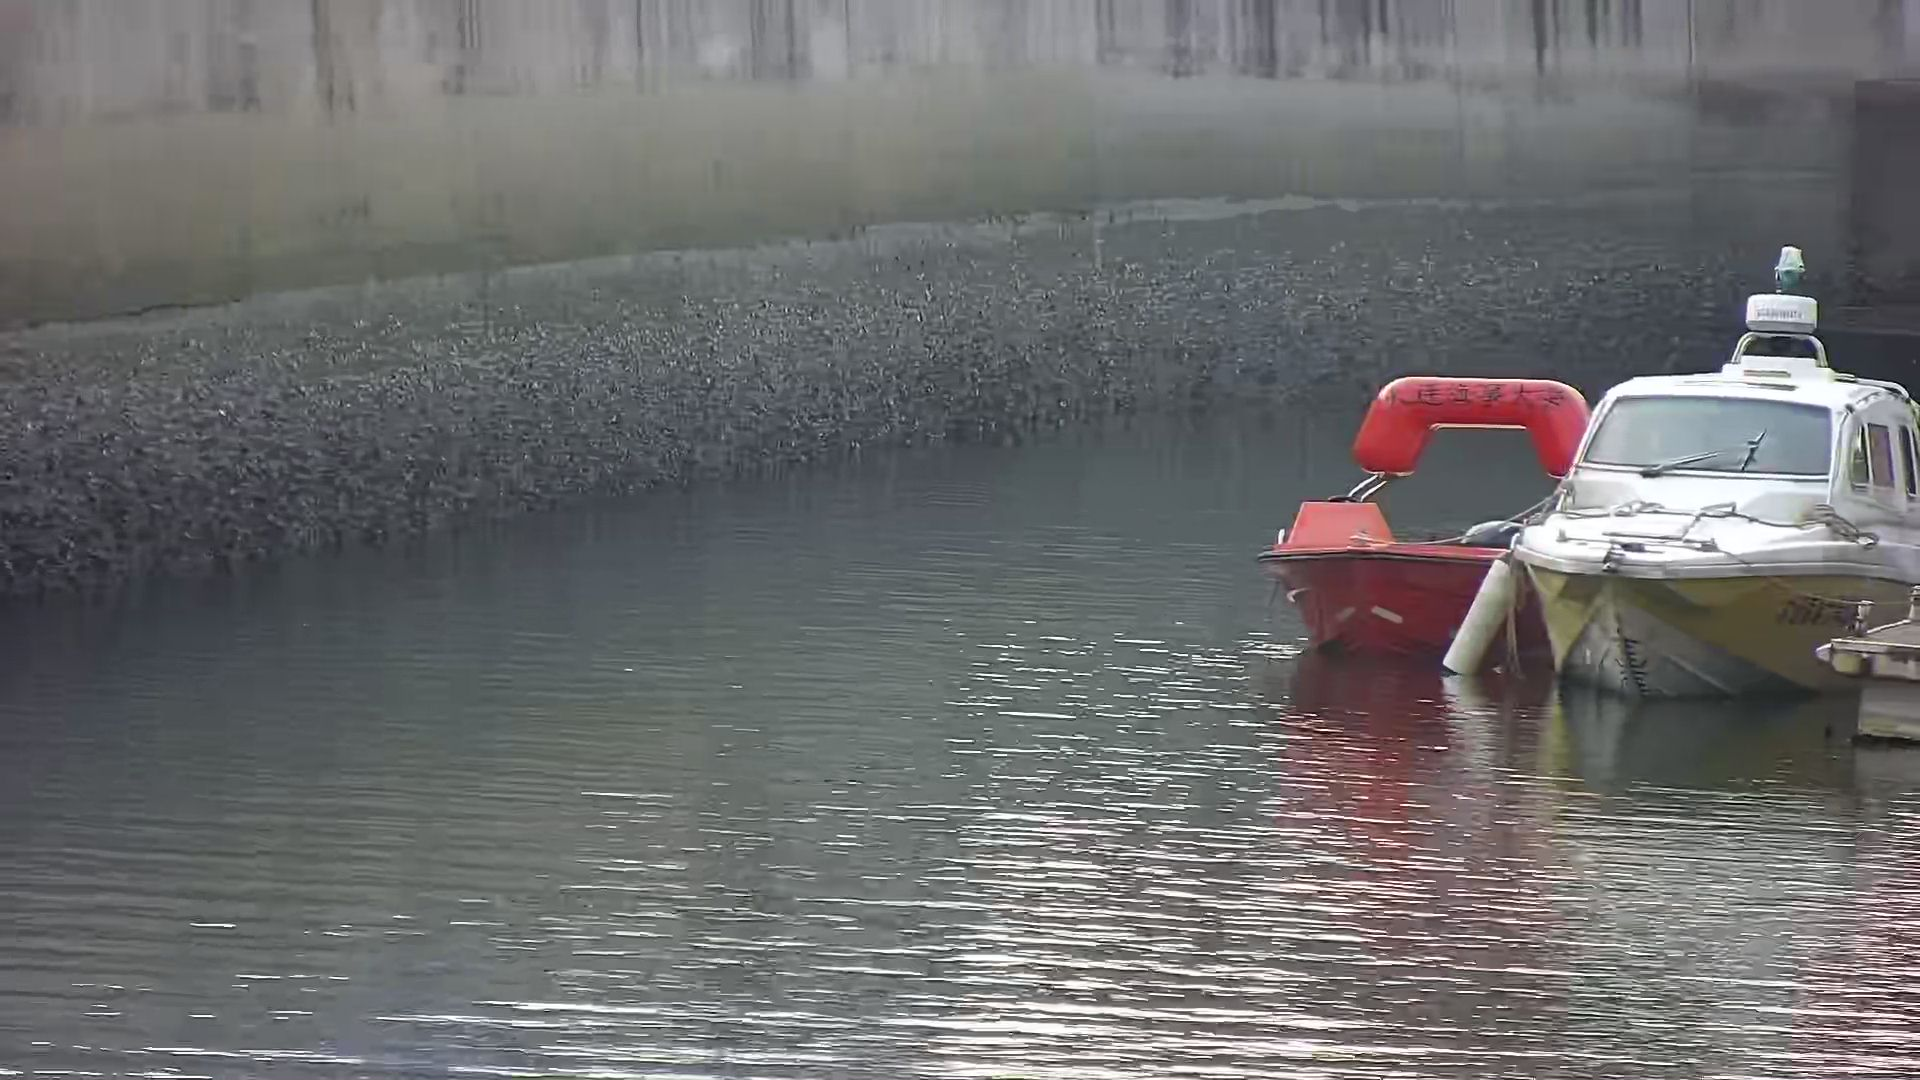boat: (1273, 361, 1575, 663)
ship: (1530, 302, 1915, 682)
